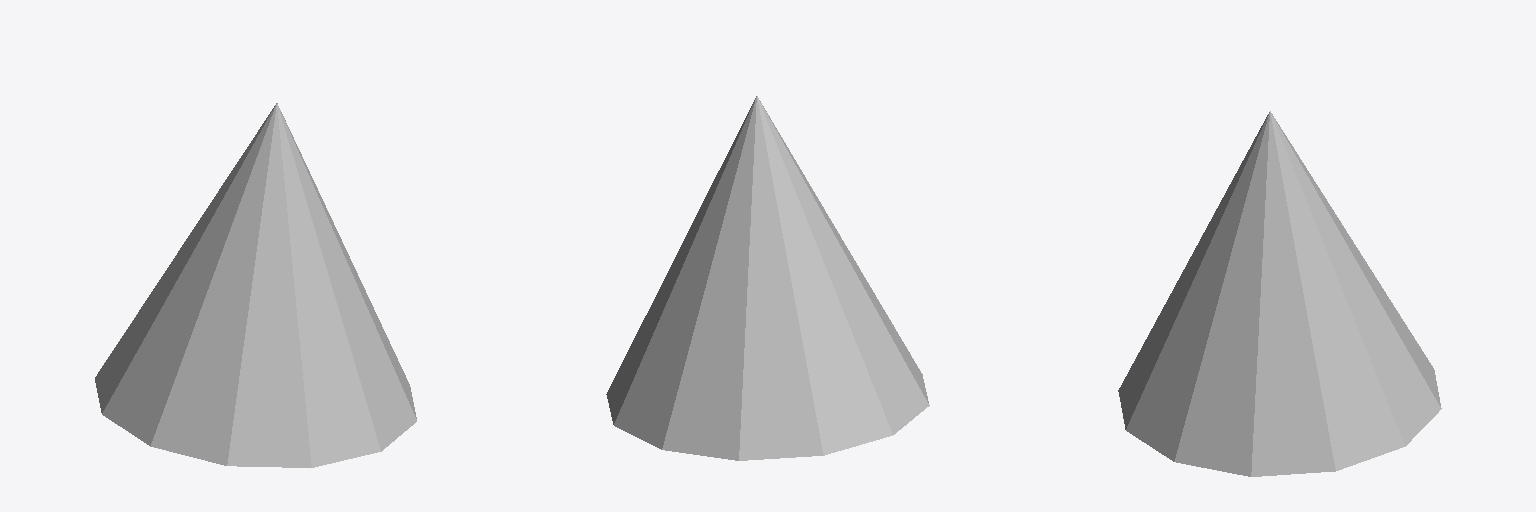
File: Spaceship4.obj
3 views of the same model, side by side, from view 1: azimuth 30°, elevation 25°; view 2: azimuth 150°, elevation 25°; view 3: azimuth 270°, elevation 25° (orthographic).
Visible parts, largest first — view 1: group[number redacted]; view 2: group[number redacted]; view 3: group[number redacted].
Part boxes in pixels (bbox=[...]): group[number redacted]: bbox=[95, 103, 416, 467]; group[number redacted]: bbox=[606, 96, 929, 460]; group[number redacted]: bbox=[1118, 111, 1441, 476].
Size of the model in its own units: 0.0786 by 0.0823 by 0.0787.